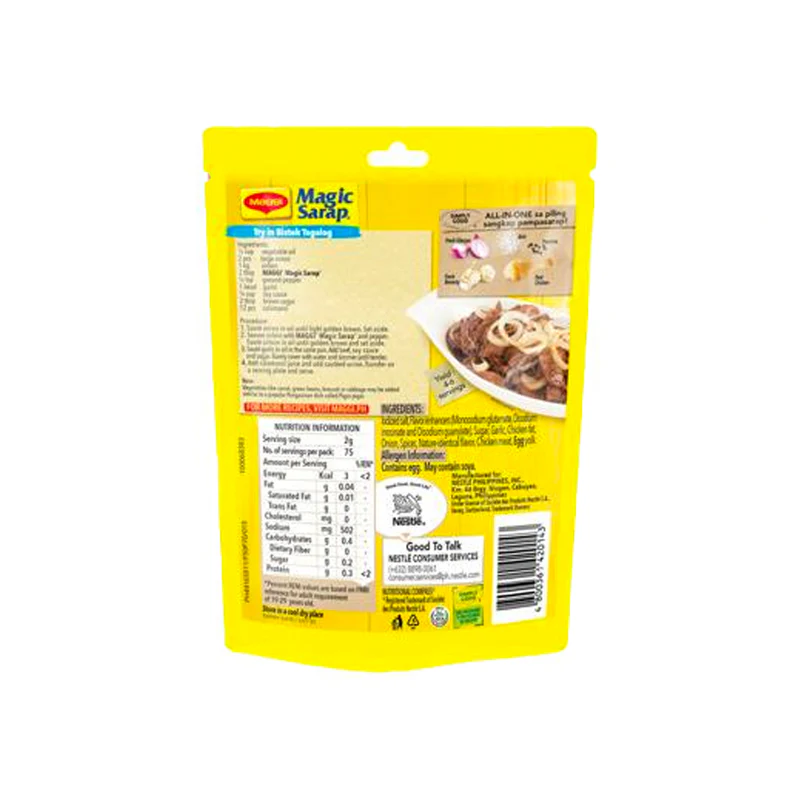non-toxic_waste: (201, 129, 575, 654)
